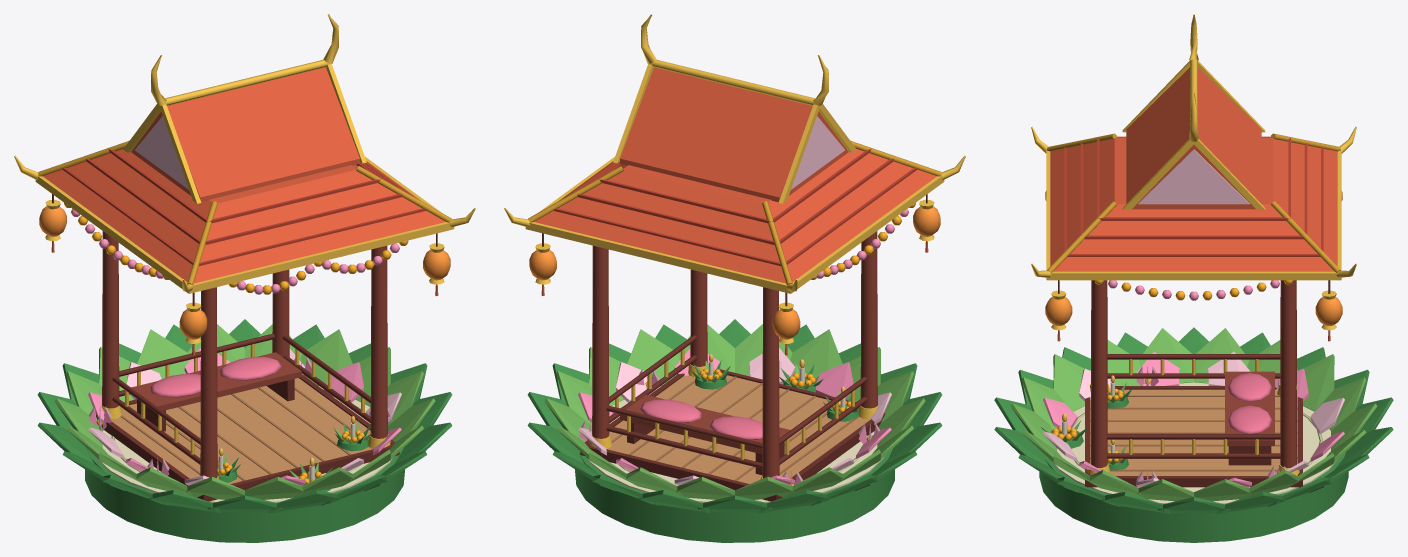
The model's file is KrathongPavilion.glb.
The picture shows the model from 3 angles, left to right: view 1: azimuth 30°, elevation 25°; view 2: azimuth 150°, elevation 25°; view 3: azimuth 270°, elevation 25°; orthographic projection. The views are drawn at different scales.
Visible parts, largest first — view 1: KrathongPavilion__Roof, KrathongPavilion__Banana_Leaf, KrathongPavilion__Banana_Leaf_Light, KrathongPavilion__Post, KrathongPavilion__Floor, KrathongPavilion__Gold, KrathongPavilion__Post_Dark, KrathongPavilion__Roof_Dark, KrathongPavilion__Lotus, KrathongPavilion__Lotus_Light, KrathongPavilion__Cushion, KrathongPavilion__Lantern_Glow (+4 smaller); view 2: KrathongPavilion__Roof, KrathongPavilion__Banana_Leaf, KrathongPavilion__Banana_Leaf_Light, KrathongPavilion__Post, KrathongPavilion__Gold, KrathongPavilion__Floor, KrathongPavilion__Post_Dark, KrathongPavilion__Roof_Dark, KrathongPavilion__Lotus_Light, KrathongPavilion__Lotus, KrathongPavilion__Lantern_Glow, KrathongPavilion__Cushion (+4 smaller); view 3: KrathongPavilion__Roof, KrathongPavilion__Banana_Leaf, KrathongPavilion__Banana_Leaf_Light, KrathongPavilion__Gold, KrathongPavilion__Floor, KrathongPavilion__Post, KrathongPavilion__Post_Dark, KrathongPavilion__Lotus_Light, KrathongPavilion__Roof_Dark, KrathongPavilion__Lotus, KrathongPavilion__Trunk_Top, KrathongPavilion__Floor_Dark (+4 smaller).
Part boxes in pixels (x1,y1,x2,y2): KrathongPavilion__Roof: [43, 67, 445, 355]; KrathongPavilion__Banana_Leaf: [37, 319, 452, 542]; KrathongPavilion__Banana_Leaf_Light: [54, 324, 435, 499]; KrathongPavilion__Post: [102, 231, 387, 478]; KrathongPavilion__Floor: [111, 378, 372, 483]; KrathongPavilion__Gold: [14, 14, 475, 479]; KrathongPavilion__Post_Dark: [52, 194, 437, 501]; KrathongPavilion__Roof_Dark: [62, 148, 426, 266]; KrathongPavilion__Lotus: [71, 209, 401, 485]; KrathongPavilion__Lotus_Light: [88, 116, 401, 485]; KrathongPavilion__Cushion: [150, 357, 281, 397]; KrathongPavilion__Lantern_Glow: [39, 206, 450, 339]; KrathongPavilion__Roof: [534, 67, 936, 355]; KrathongPavilion__Banana_Leaf: [527, 319, 942, 542]; KrathongPavilion__Banana_Leaf_Light: [544, 324, 925, 499]; KrathongPavilion__Post: [592, 231, 877, 478]; KrathongPavilion__Gold: [504, 14, 965, 479]; KrathongPavilion__Floor: [607, 375, 869, 483]; KrathongPavilion__Post_Dark: [542, 194, 927, 501]; KrathongPavilion__Roof_Dark: [553, 148, 917, 266]; KrathongPavilion__Lotus_Light: [578, 116, 891, 485]; KrathongPavilion__Lotus: [578, 209, 908, 484]; KrathongPavilion__Lantern_Glow: [529, 206, 940, 339]; KrathongPavilion__Cushion: [640, 399, 762, 439]; KrathongPavilion__Roof: [1050, 67, 1337, 341]; KrathongPavilion__Banana_Leaf: [994, 327, 1393, 542]; KrathongPavilion__Banana_Leaf_Light: [1010, 328, 1377, 501]; KrathongPavilion__Gold: [1031, 14, 1356, 475]; KrathongPavilion__Floor: [1090, 389, 1297, 475]; KrathongPavilion__Post: [1091, 280, 1296, 467]; KrathongPavilion__Post_Dark: [1058, 280, 1330, 487]; KrathongPavilion__Lotus_Light: [1043, 149, 1344, 486]; KrathongPavilion__Roof_Dark: [1064, 136, 1323, 256]; KrathongPavilion__Lotus: [1043, 280, 1344, 487]; KrathongPavilion__Trunk_Top: [1051, 382, 1336, 504]; KrathongPavilion__Floor_Dark: [1090, 395, 1297, 471].
Size of the model in its own units: 14.44 by 16.66 by 14.22.
